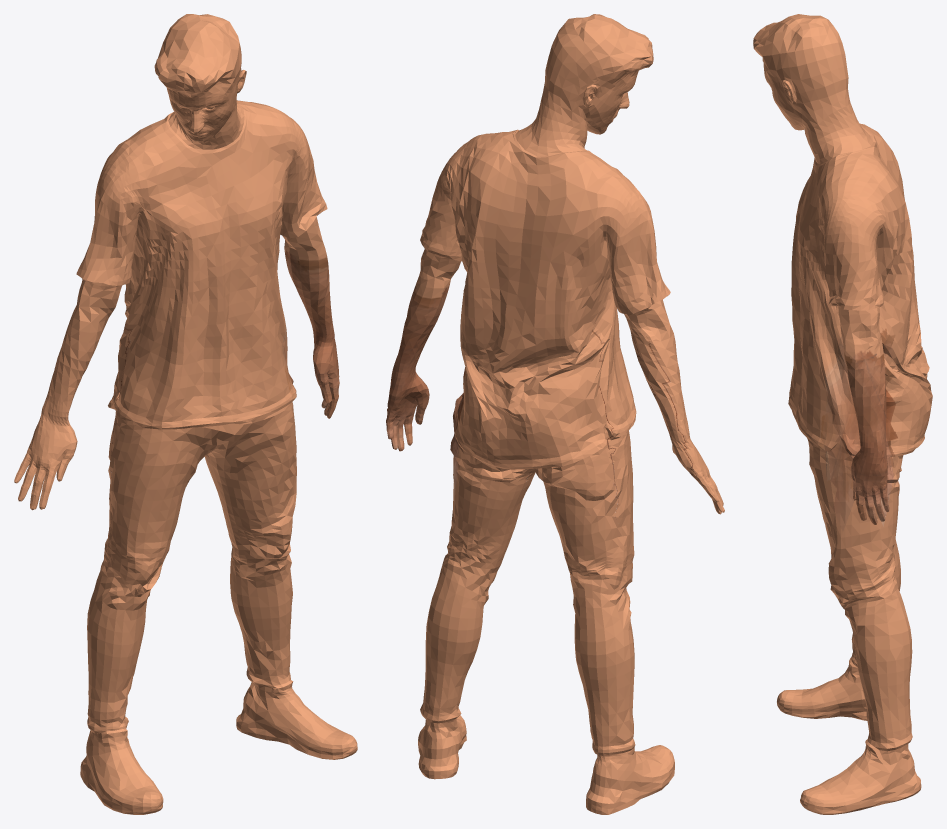
File: avatar_mesh.glb
The picture shows the model from 3 angles, left to right: view 1: azimuth 30°, elevation 25°; view 2: azimuth 150°, elevation 25°; view 3: azimuth 270°, elevation 25°; orthographic projection. The views are drawn at different scales.
Bounding box in the file's own units: 0.7634 × 1.7 × 0.3819.
1 material, 1 textured.
